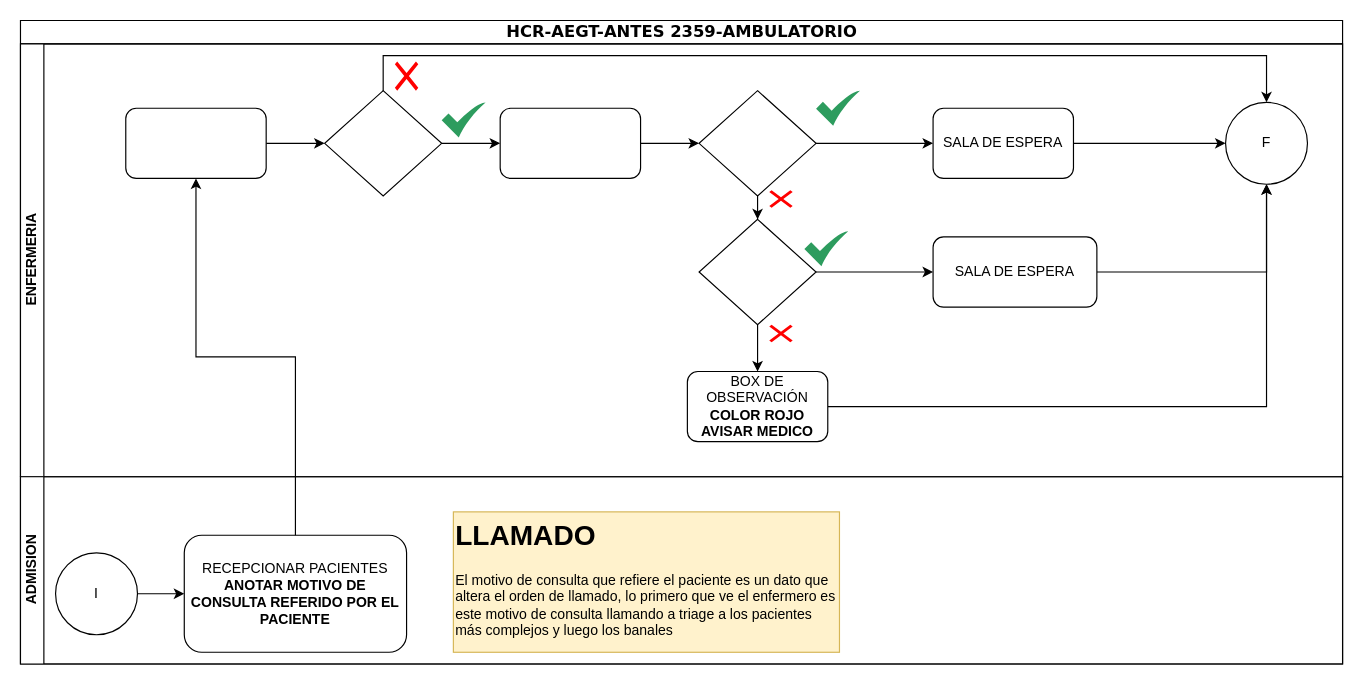
Some shapes in this 1363 by 684 pixel diagram are drawn without their labels. The shapes that lost their labels are listed below. From the top down, each one's centre as x and y in pixels, then its label:
At (195,142): "LLAMAR PACIENTE".
At (383,143): "ESTA PRESENTE".
At (570,142): "REALIZAR TRIAJE".
At (757,143): "ES VERDE".
At (757,271): "ES AMARILLO".
